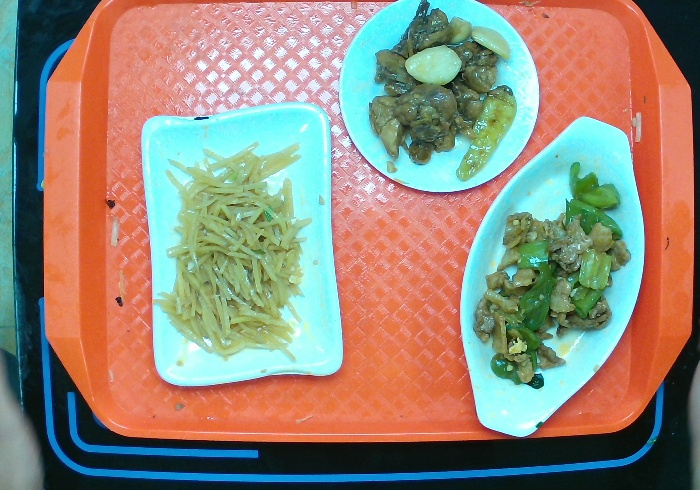RJxy-Si_Fang_Ao_Bian_Wan: (141, 101, 346, 389)
RJxy-Xiao_Yuan_Die: (338, 1, 541, 194)
RJxy-Yu_Pan: (454, 115, 649, 439)
